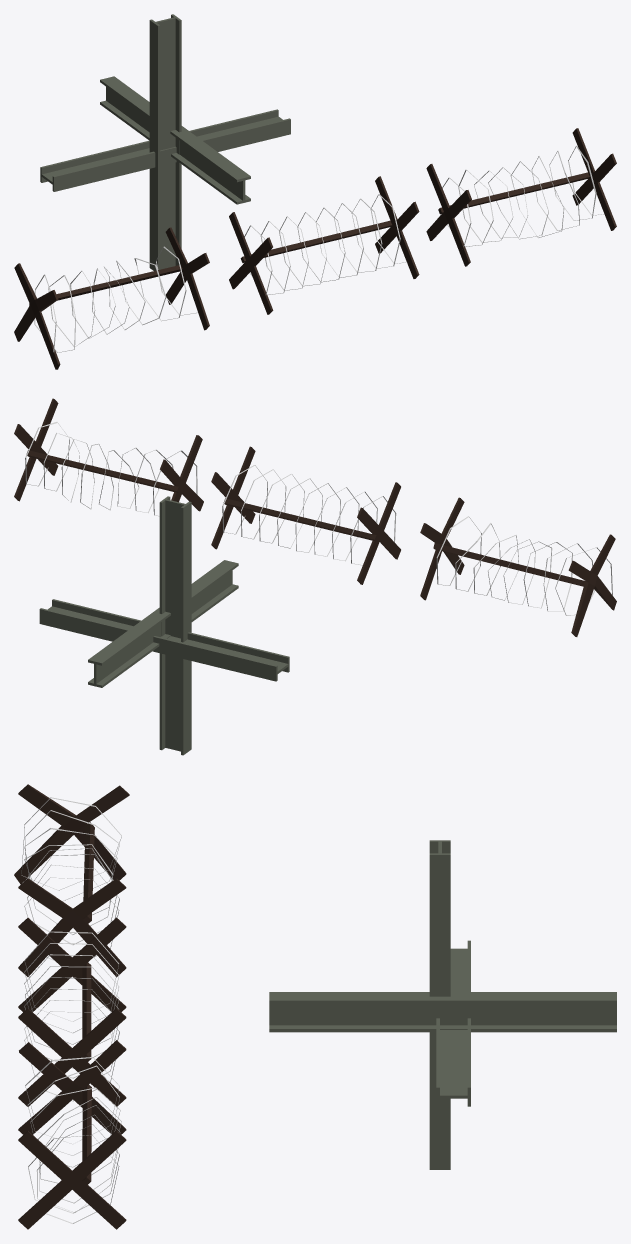
File: Barbed Wire.fbx
3 renders of one model, top to bottom at view 1: azimuth 30°, elevation 25°; view 2: azimuth 150°, elevation 25°; view 3: azimuth 270°, elevation 25°, orthographic. The views are drawn at different scales.
Parts seen in each view (by area): view 1: Tank Stopper, Barbed Wire 2, Barbed Wire 3, Barbed Wire; view 2: Tank Stopper, Barbed Wire 2, Barbed Wire, Barbed Wire 3; view 3: Tank Stopper, Barbed Wire 3, Barbed Wire 2, Barbed Wire.
Part boxes in pixels (x1,y1,x2,y2): Tank Stopper: (40, 14, 290, 270); Barbed Wire 2: (14, 227, 209, 369); Barbed Wire 3: (426, 128, 616, 266); Barbed Wire: (229, 176, 419, 314); Tank Stopper: (39, 496, 289, 755); Barbed Wire 2: (420, 497, 616, 636); Barbed Wire: (211, 446, 400, 584); Barbed Wire 3: (14, 398, 203, 516); Tank Stopper: (269, 840, 616, 1169); Barbed Wire 3: (18, 1040, 126, 1229); Barbed Wire 2: (14, 784, 129, 977); Barbed Wire: (18, 917, 126, 1106).
Size of the model in its own units: 1187 by 500 by 867.
